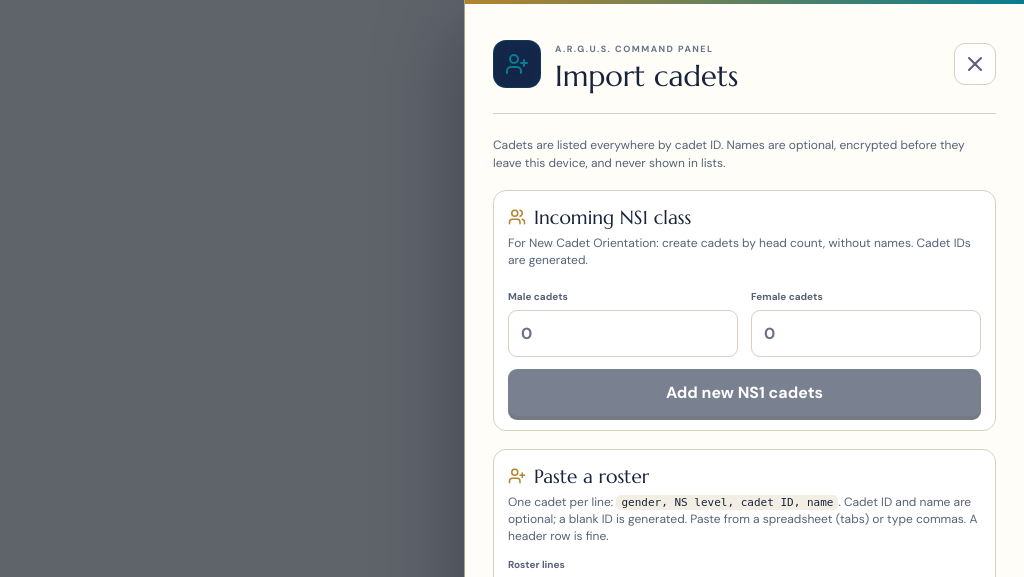
RosterImportPanel › adds an NCO class by head count: "Add 4 new NS1 cadets" with a 2/2 split and no names
Expected: the button "Add new NS1 cadets" is disabled, [508, 369, 981, 416]
Step 1. Type "2" into the number field labelled "Male cadets" → {"x": 623, "y": 333}, box [508, 310, 738, 357]
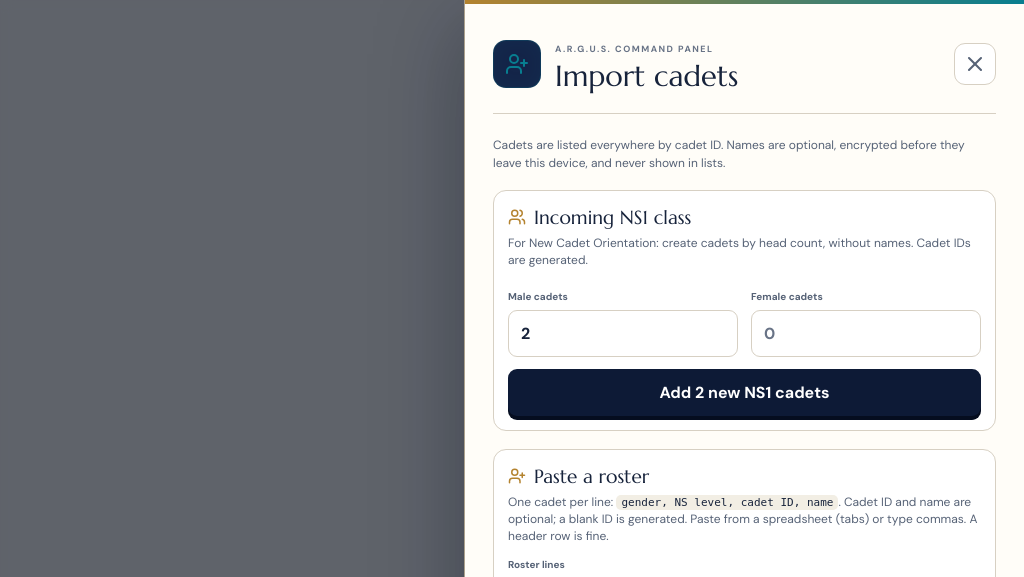
Step 2. Type "2" into the number field labelled "Female cadets" → {"x": 866, "y": 333}, box [751, 310, 981, 357]
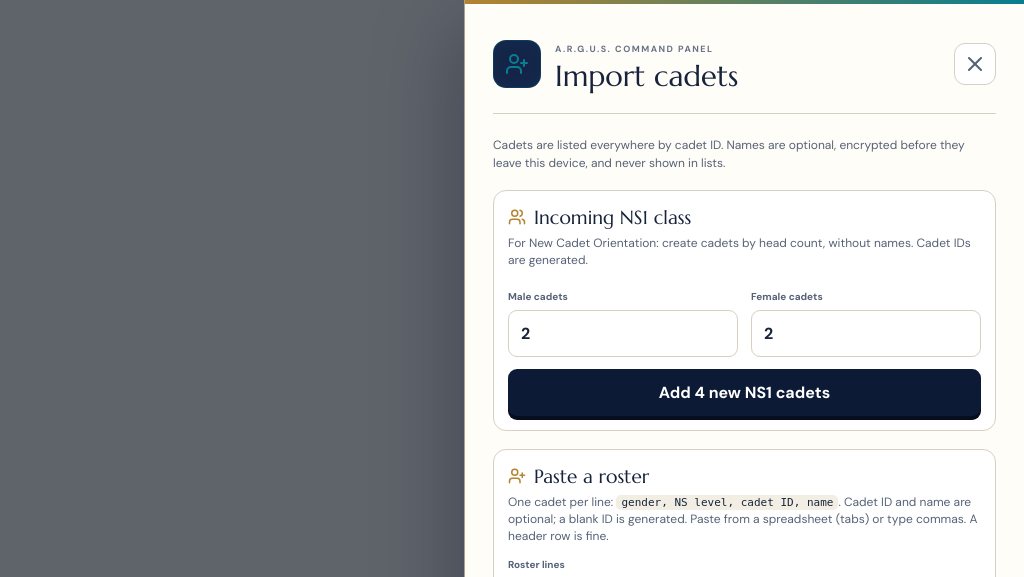
Step 3. Click the button "Add 4 new NS1 cadets" → {"x": 744, "y": 392}, box [508, 369, 981, 416]
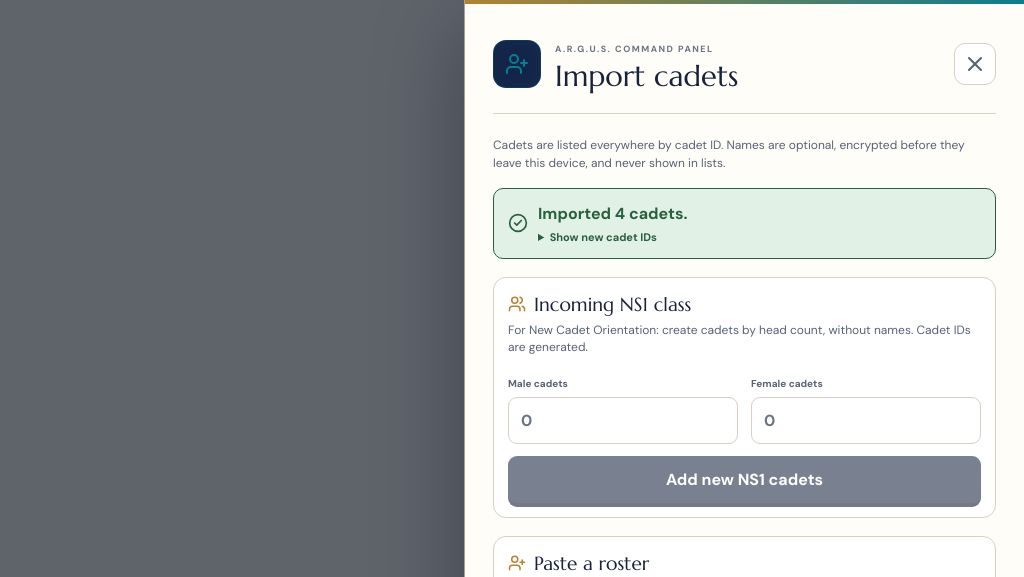
Now the message "Imported 4 cadets. Show new cadet IDs" is shown, box [493, 188, 996, 259]
Now the number field labelled "Male cadets" is not empty, box [508, 397, 738, 444]
Step 4. Type "2.5" into the number field labelled "Female cadets" → {"x": 866, "y": 420}, box [751, 397, 981, 444]
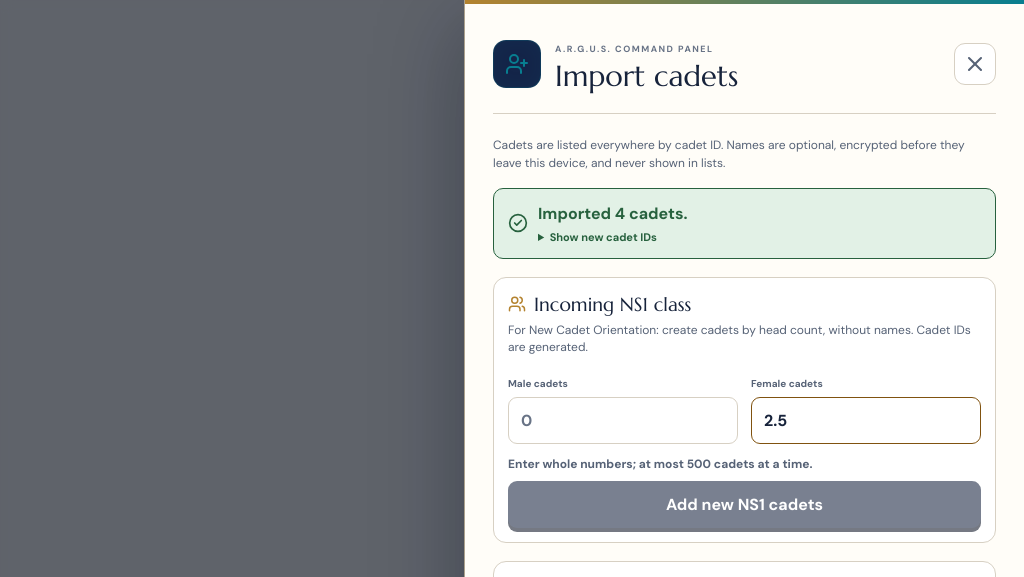
Now the button "Add new NS1 cadets" is disabled, box [508, 481, 981, 528]
Now the text "Enter whole numbers; at most 500 cadets at a time." is shown, box [508, 456, 812, 472]
